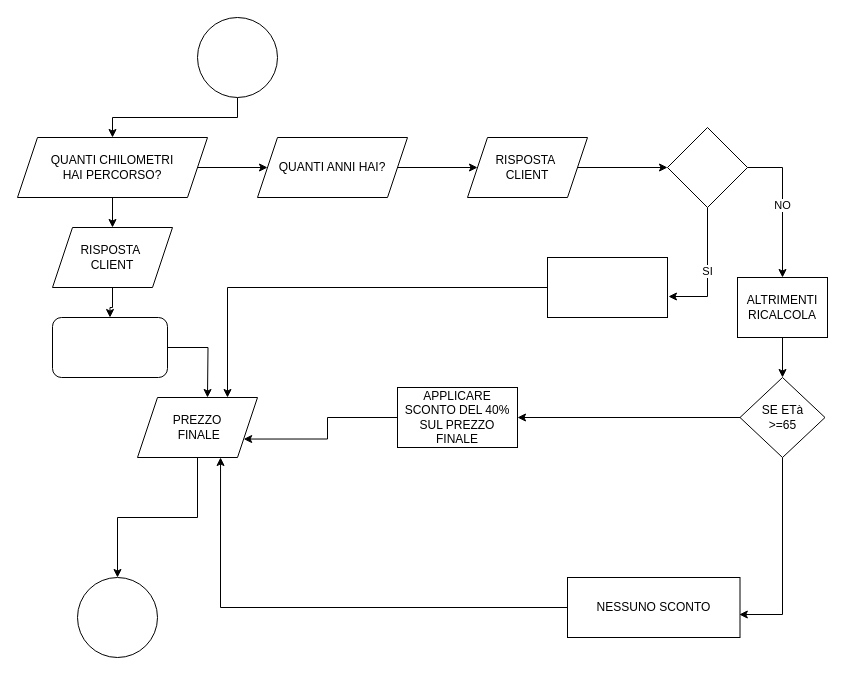
This 845x675 diagram has some shape labels left out. The shapes that lost their labels are listed below. From the top down, each one's centre as x and y in pixels, then its label:
At point 237,57: "INIZIO".
At point 707,167: "SE ETà <18".
At point 607,287: "APPLICARE SCONTO 20% SUL PREZZO FINALE".
At point 110,347: "RISPOSTA CLIENT * (0.21 € al km)".
At point 117,617: "FINE".
